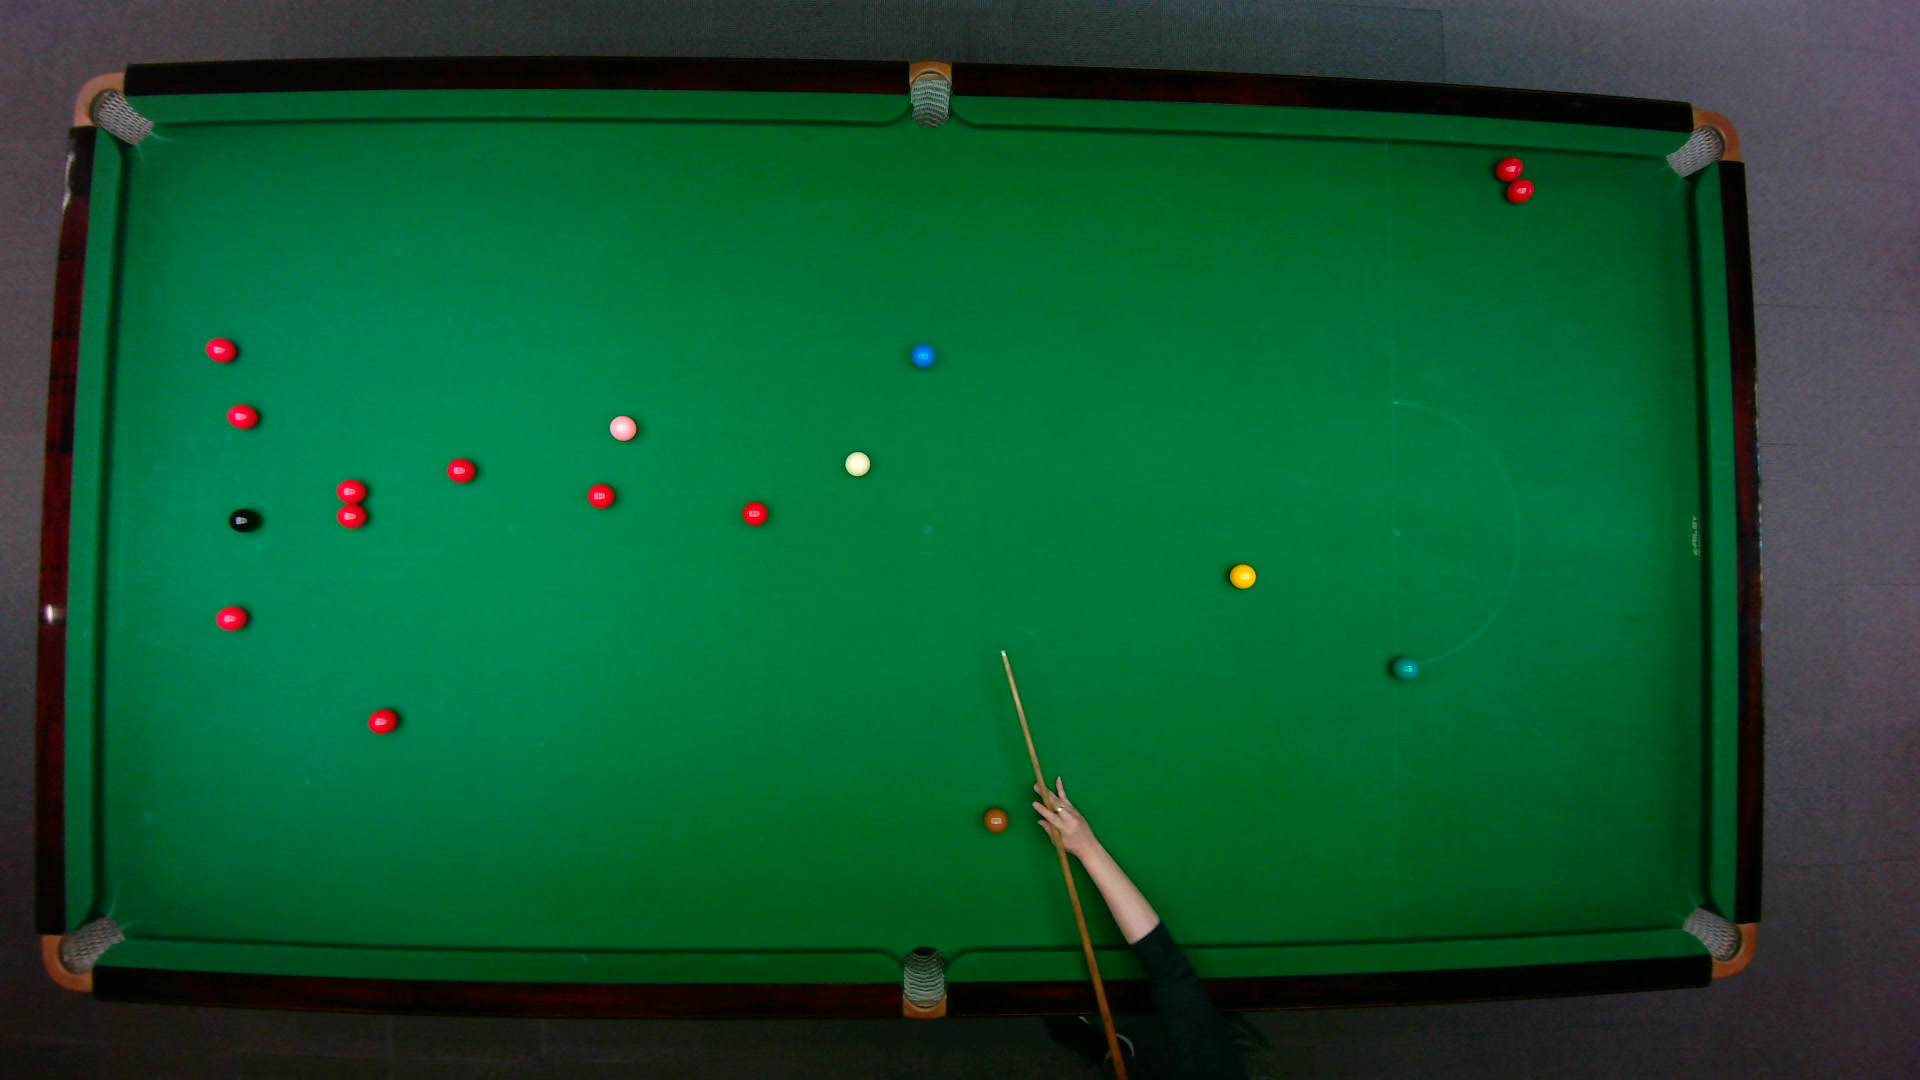bag: (40, 913, 128, 992), (71, 71, 156, 146), (1679, 905, 1758, 978), (1663, 108, 1741, 179), (901, 944, 945, 1021), (909, 59, 951, 129)
black: (227, 506, 261, 534)
blue: (909, 343, 938, 371)
brown: (981, 806, 1009, 833)
cue: (1000, 647, 1129, 1080)
green: (1390, 655, 1420, 680)
pink: (607, 414, 640, 443)
red: (203, 335, 240, 365), (214, 604, 251, 633), (224, 402, 260, 431), (367, 707, 400, 736), (334, 477, 369, 504), (334, 504, 369, 530), (585, 483, 617, 512), (444, 458, 477, 485), (1505, 177, 1538, 204), (740, 500, 770, 527), (1494, 156, 1524, 183)
white: (843, 450, 872, 477)
yellow: (1228, 562, 1258, 589)
zone: (1390, 400, 1519, 667)
